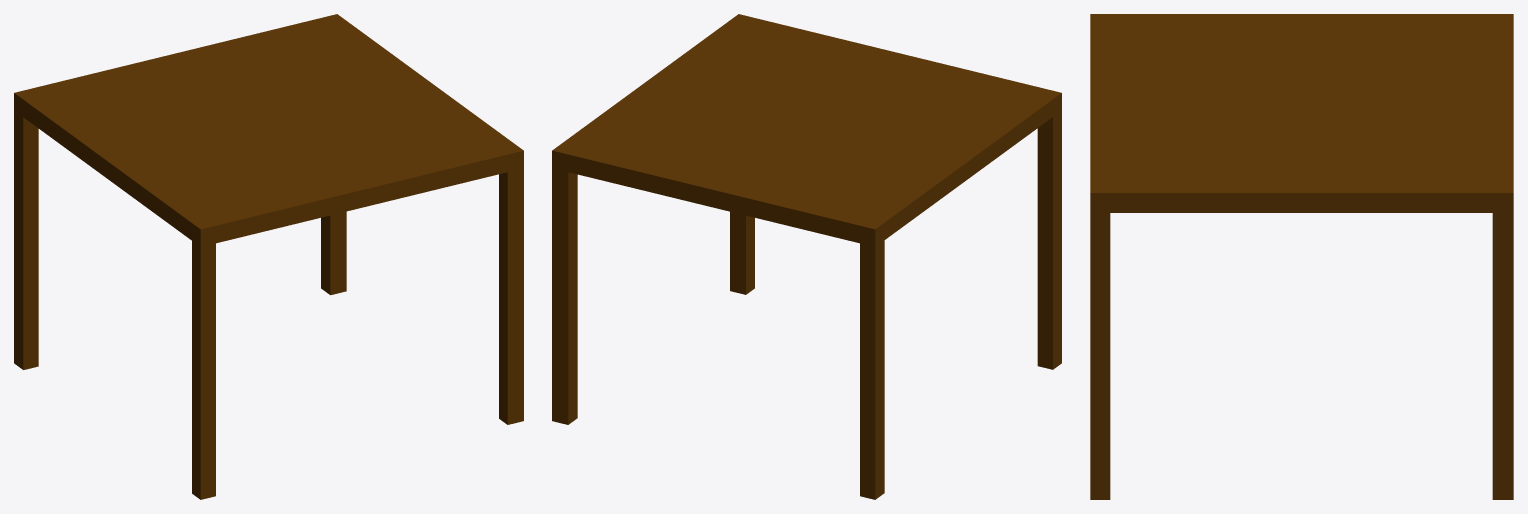
Rendered from table.fbx.
The picture shows the model from 3 angles, left to right: view 1: azimuth 30°, elevation 25°; view 2: azimuth 150°, elevation 25°; view 3: azimuth 270°, elevation 25°; orthographic projection. The views are drawn at different scales.
Parts seen in each view (by area): view 1: Table; view 2: Table; view 3: Table.
Boxes of the visible parts, box(x1,y1,x2,y2) form: Table: box(14, 14, 523, 499); Table: box(552, 14, 1061, 499); Table: box(1090, 14, 1513, 499).
Bounding box in the file's own units: 100 × 80 × 100.
